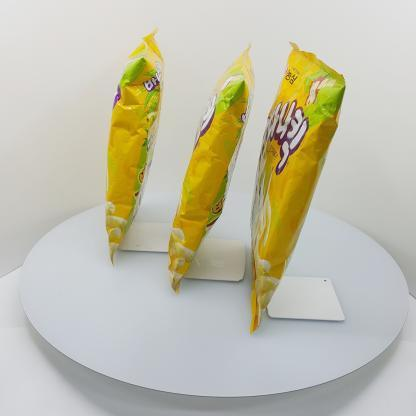Plastic Packaging: (254, 41, 348, 314), (173, 38, 253, 282), (96, 22, 167, 256)
